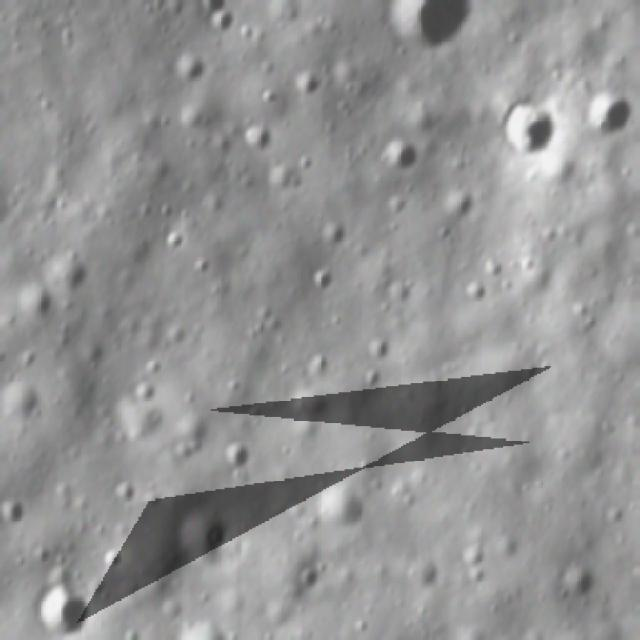crater: (488, 92, 562, 172), (175, 503, 258, 569), (383, 5, 482, 60), (35, 572, 103, 636), (582, 84, 632, 156), (314, 476, 374, 533), (559, 556, 610, 615), (47, 240, 96, 294), (15, 281, 60, 330), (382, 133, 424, 179), (220, 442, 262, 478), (242, 116, 278, 156), (0, 492, 34, 530), (107, 474, 141, 508)
